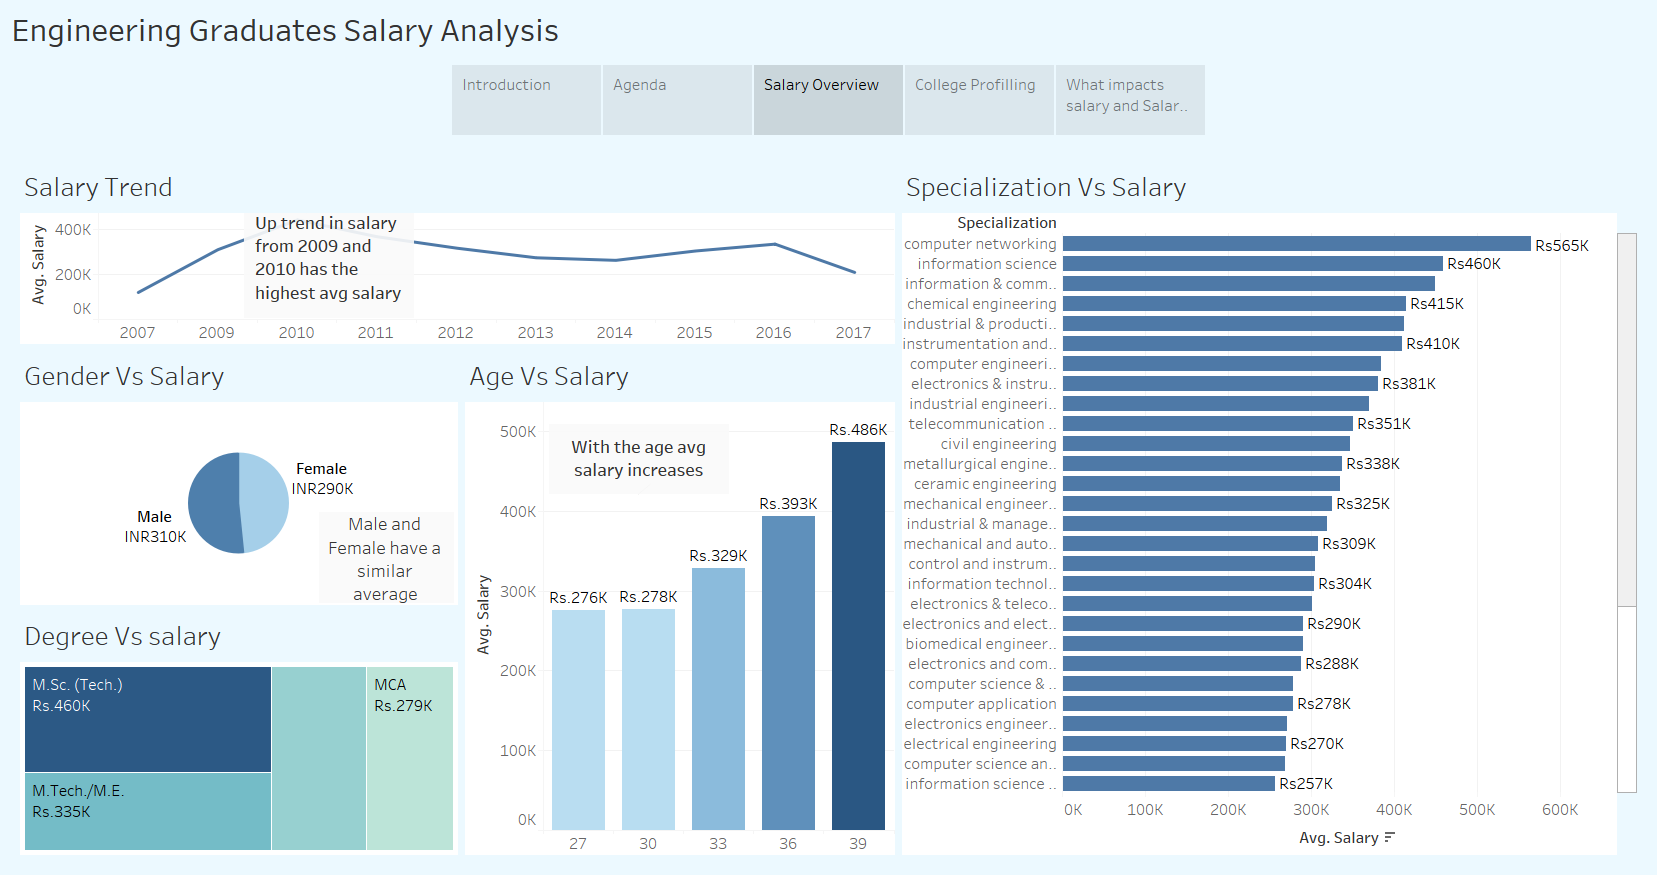

What the dashboard file says about the page in this screenshot:
{"tool":"tableau","page":{"name":" Salary OverView","canvas":[1000,1000],"units":"permille","ordinal":0},"visuals":[{"type":"worksheet","title":"Salary Trend","mark":"Line","rows":["Salary"],"cols":["Calculation_6958835494484484100"],"box":[5.7,10.6,536.8,264.9]},{"type":"worksheet","title":"Specialization","mark":"Automatic","rows":["Specialization"],"cols":["Salary"],"box":[542.4,10.6,451.9,978.8]},{"type":"worksheet","title":"Gender based salary","mark":"Pie","box":[5.7,275.5,270.9,363.1]},{"type":"worksheet","title":"Age based salary","mark":"Automatic","rows":["Salary"],"cols":["Age (copy) (bin)"],"box":[276.6,275.5,265.8,713.9]},{"type":"worksheet","title":"Degree wise salary","mark":"Automatic","box":[5.7,638.6,270.9,350.8]}]}

Visuals, with their boxes on the dashboard's canvas, which has no fixed pixel size, in thousandths of its width and height (x1, y1, x2, y2). These are canvas units, not pixel positions in the 1657x875 screenshot, which may show the page scaled, cropped or inside an application window:
"Salary Trend" worksheet (Line marks): [6,11,542,276]
"Specialization" worksheet: [542,11,994,989]
"Gender based salary" worksheet (Pie marks): [6,276,277,639]
"Age based salary" worksheet: [277,276,542,989]
"Degree wise salary" worksheet: [6,639,277,989]
